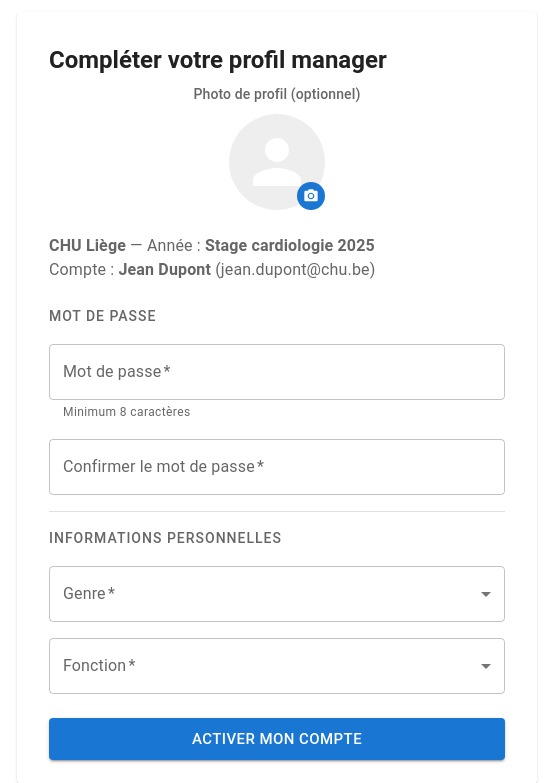
ManagerSetupPage › shows error when password is too short
Type "short" into the password field labelled "Mot de passe *".
click(277, 372); type("short")  # box [49,344,505,400]
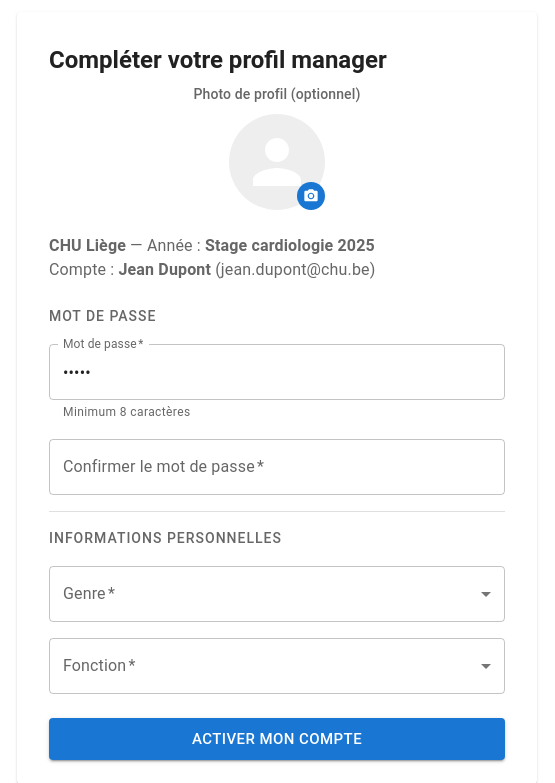
Use fireEvent.submit — JSDOM does not trigger form onSubmit via button click
Submit the form named "Activer", box [49,306,505,760]
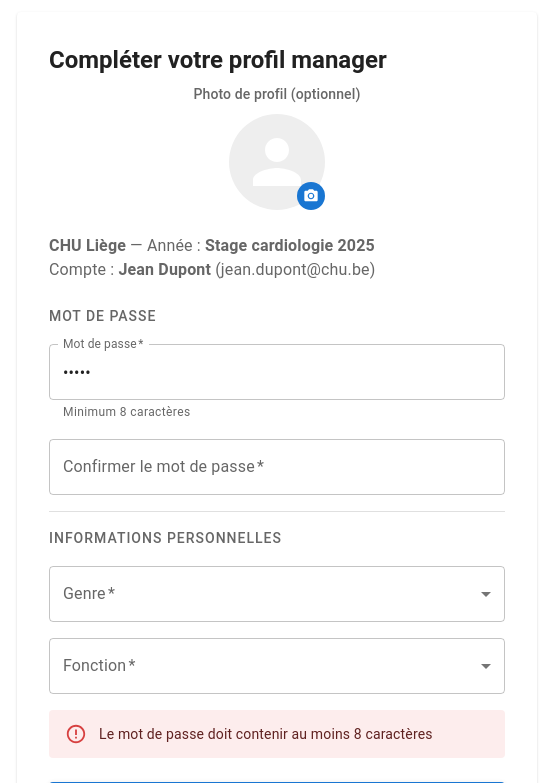
Expected: the text "Le mot de passe doit contenir au moins 8 caractères" is shown, [99,726,433,742]
